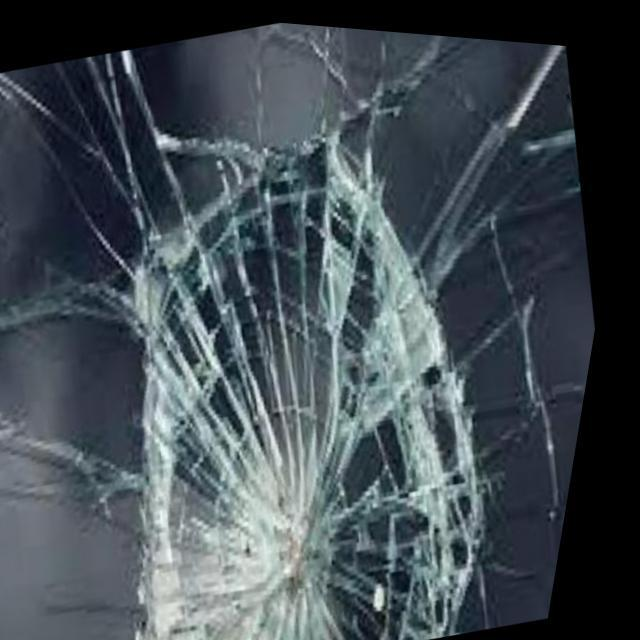glass shatter: (143, 131, 505, 640)
